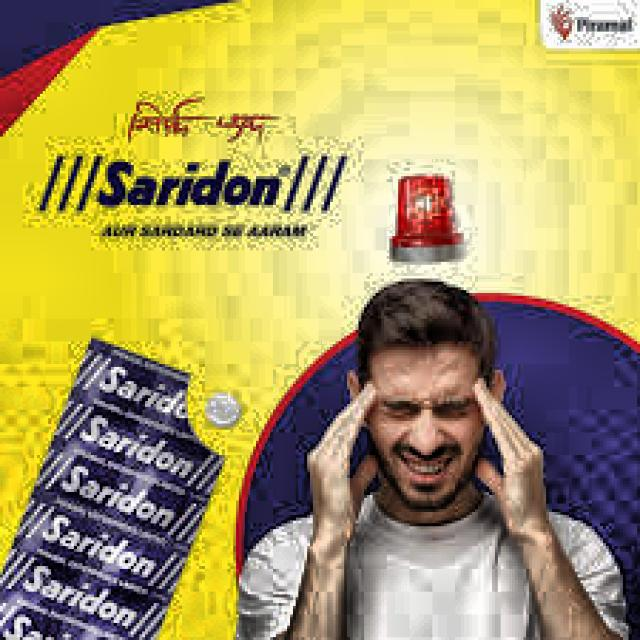Saridon: (5, 340, 223, 637), (44, 123, 358, 267)
